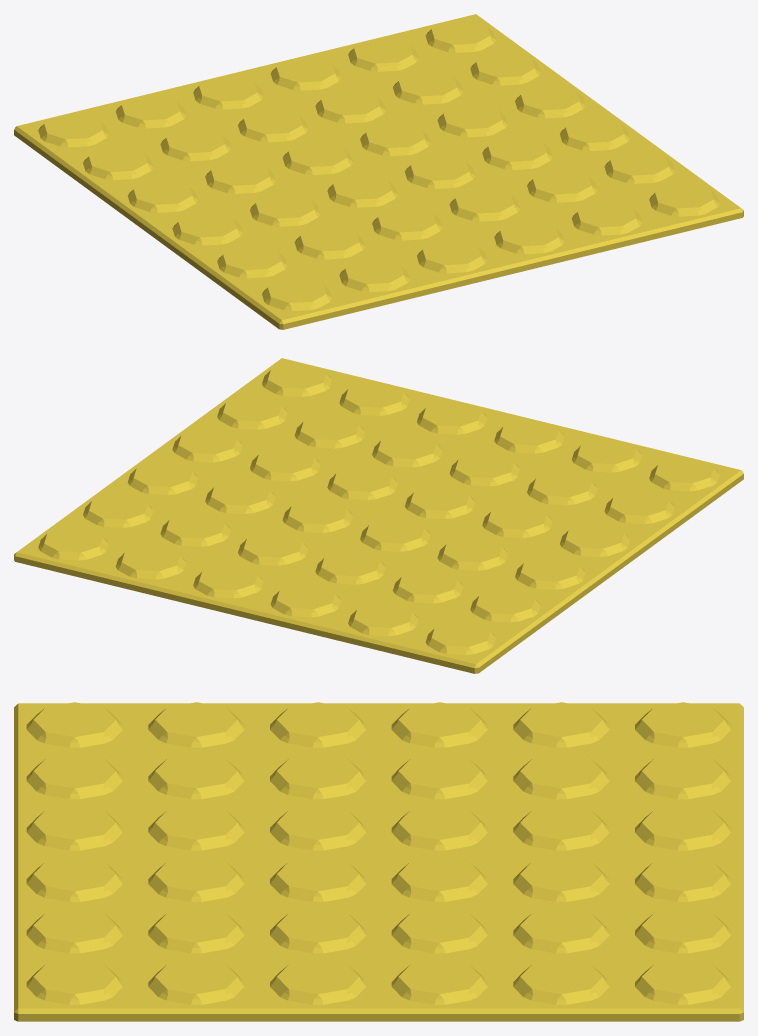
The model's file is brailleBlockDotNew.fbx.
The picture shows the model from 3 angles, top to bottom: view 1: azimuth 30°, elevation 25°; view 2: azimuth 150°, elevation 25°; view 3: azimuth 270°, elevation 25°; orthographic projection. The views are drawn at different scales.
Visible parts, largest first — view 1: brailleBlockDot; view 2: brailleBlockDot; view 3: brailleBlockDot.
Part boxes in pixels (<box>): brailleBlockDot: <box>14,14,743,329</box>; brailleBlockDot: <box>14,358,743,673</box>; brailleBlockDot: <box>14,702,743,1021</box>.
Bounding box in the file's own units: 122 × 3.57 × 122.
